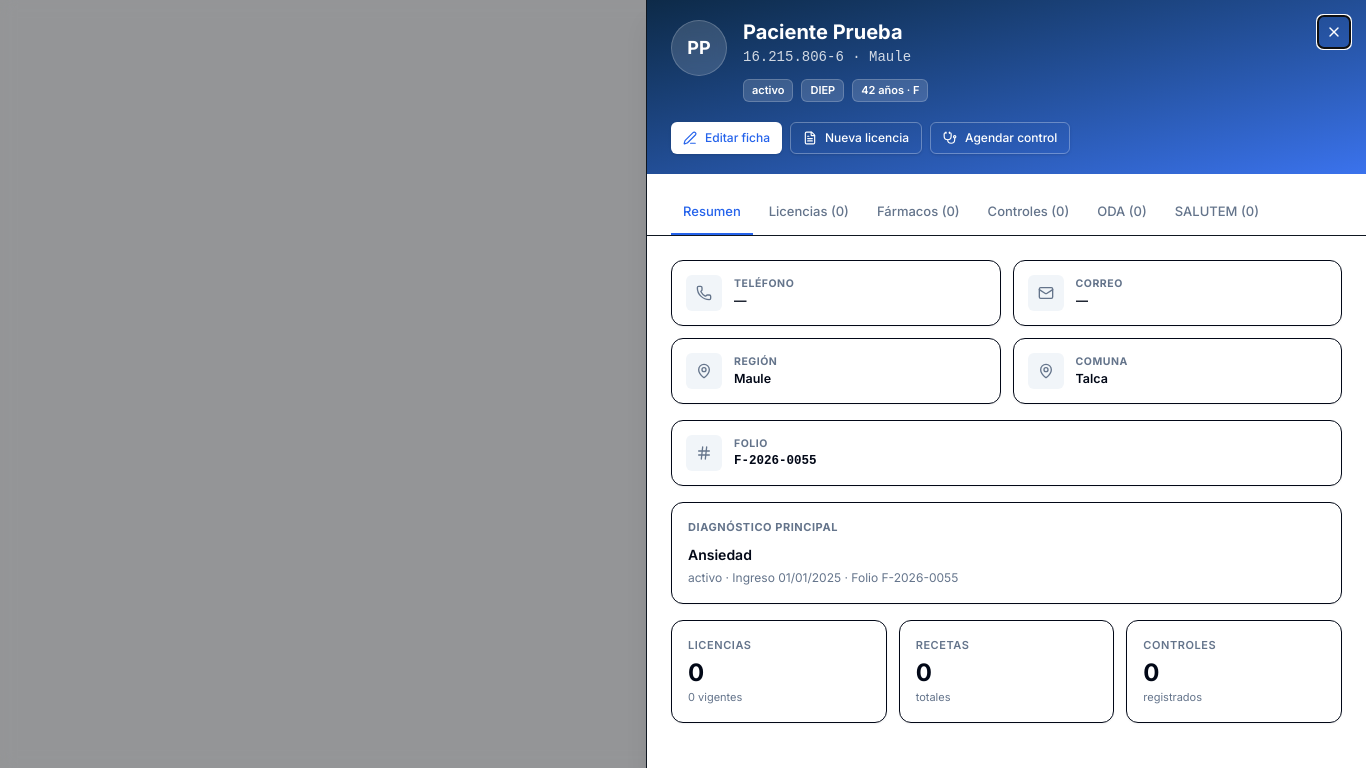
Scenario: PatientSheet — pestaña SALUTEM › muestra el motivo cuando SALUTEM rechaza el RUT del paciente
Check: the heading "Paciente Prueba" is shown, box [743,20,902,44]
Click the tab "SALUTEM (0)": x=1217, y=212 [1163,190,1271,235]
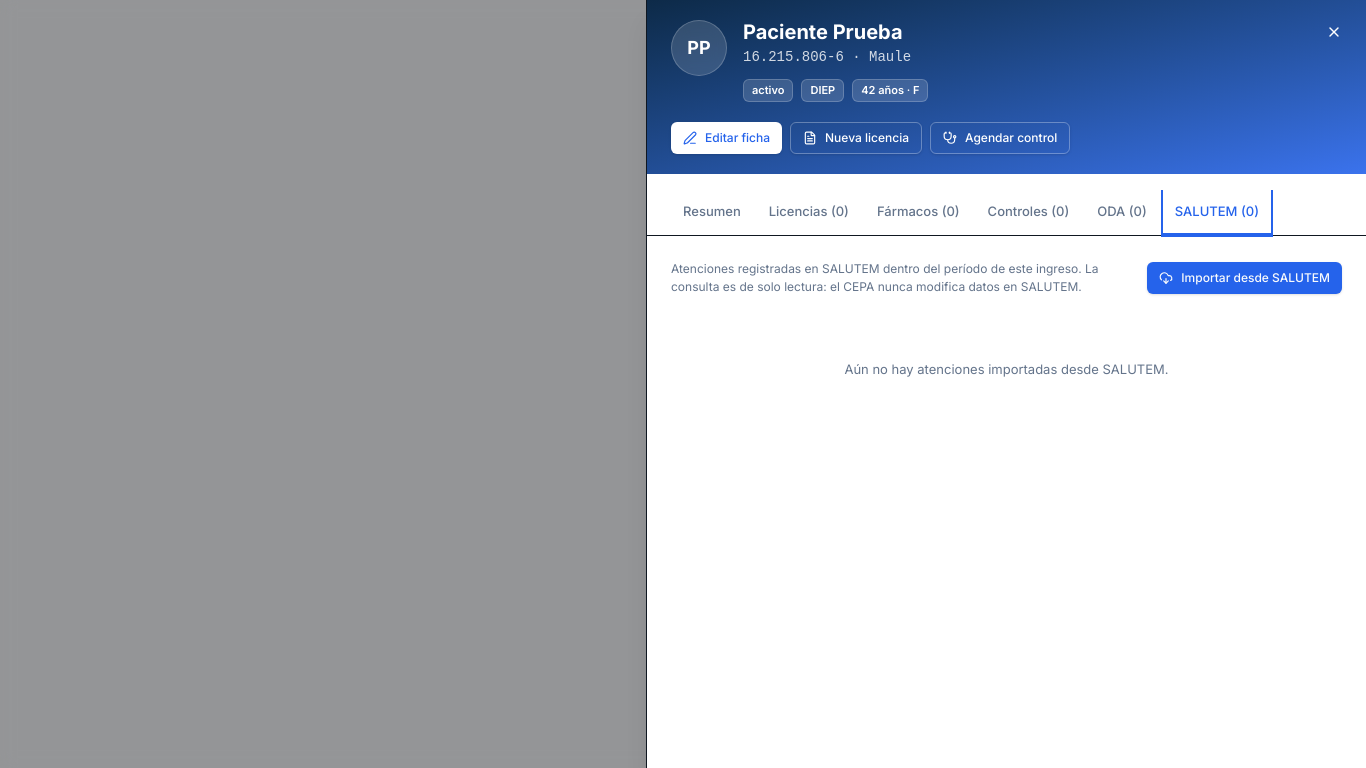
Click the button "Importar desde SALUTEM": x=1245, y=278 [1147,262,1342,294]
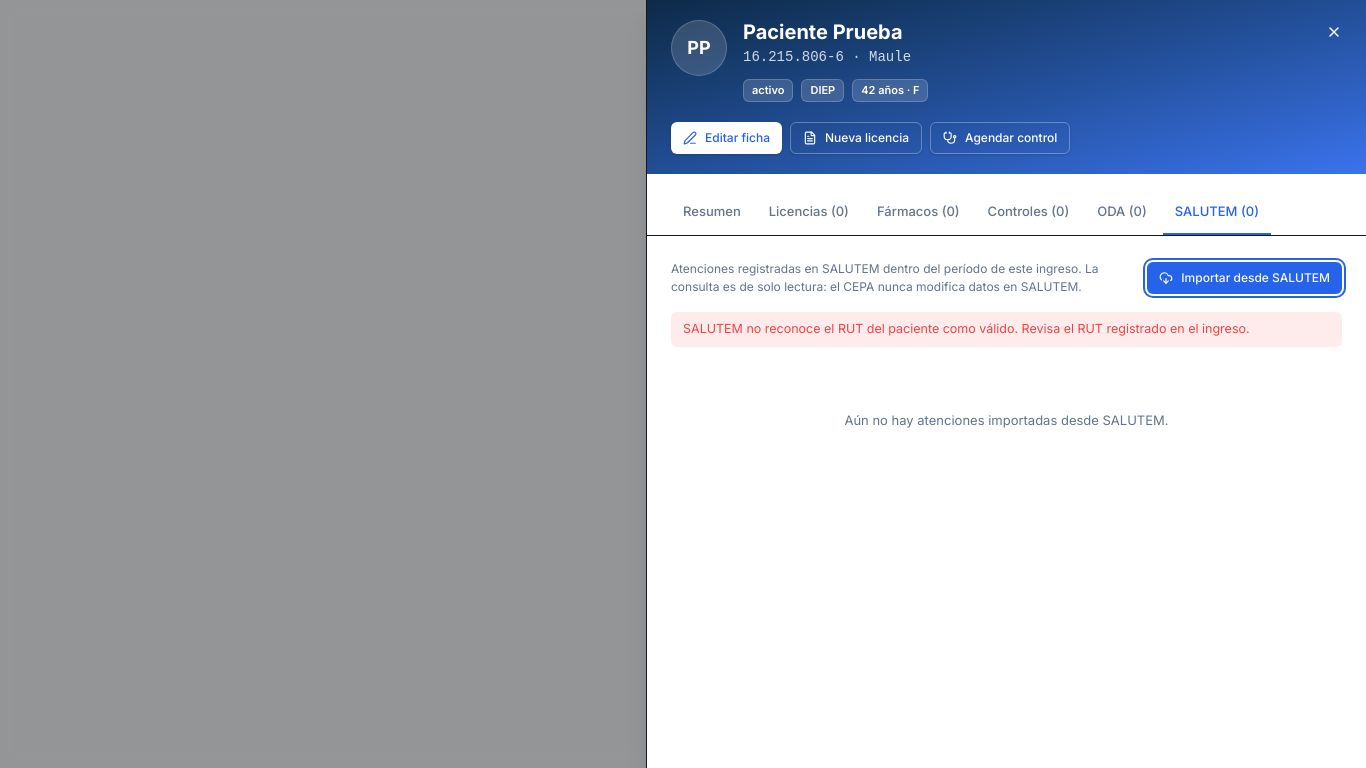
Check: the message shows "RUT del paciente", box [683,321,1250,336]
